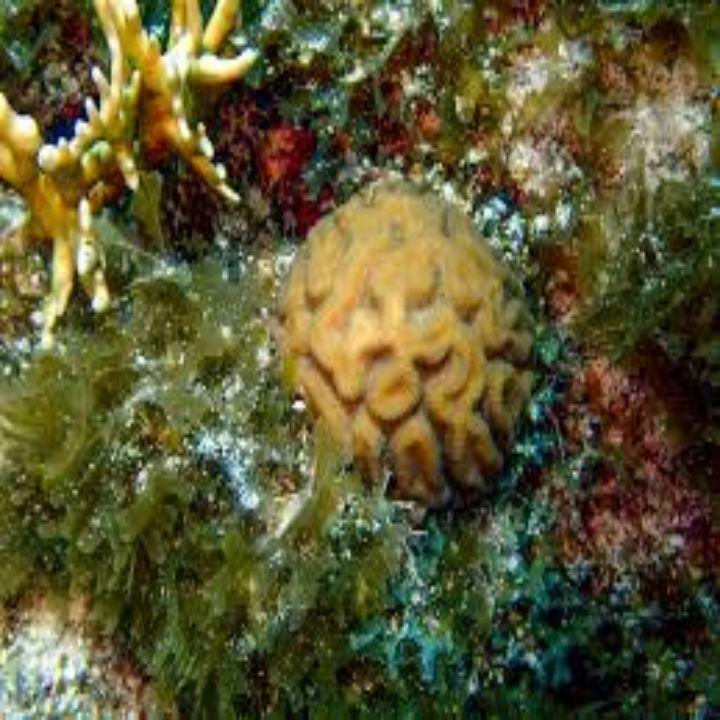Healthy Coral: (268, 167, 551, 505)
